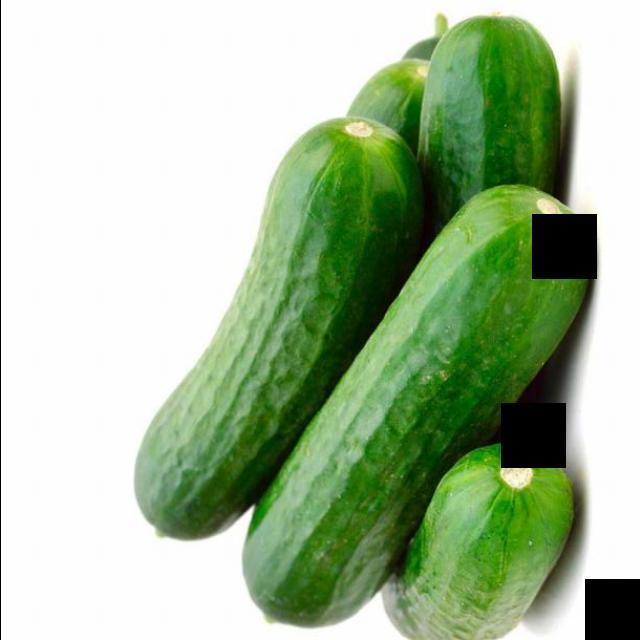cucumber: (238, 190, 588, 626), (133, 114, 414, 534), (383, 445, 580, 640), (416, 7, 564, 188)
